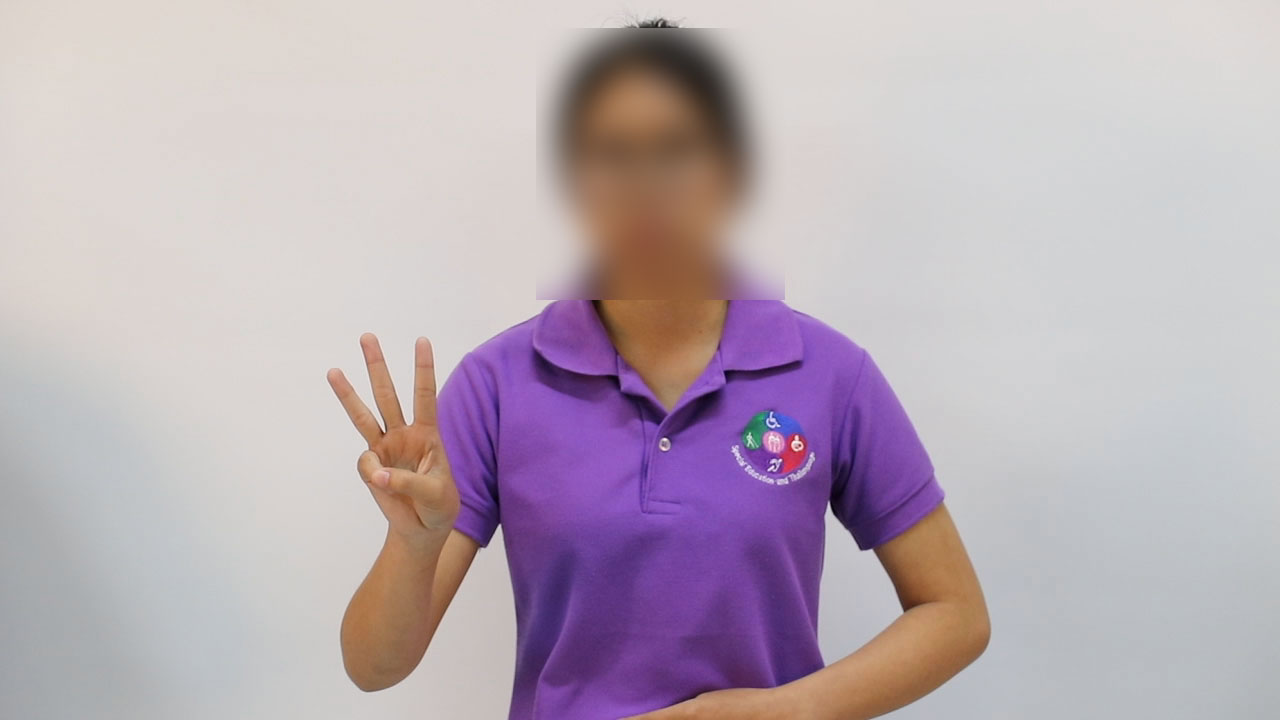wor: (319, 325, 468, 553)
